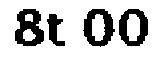0: (118, 8, 151, 50), (82, 5, 112, 49)
8: (13, 5, 46, 50)
t: (47, 10, 70, 49)
